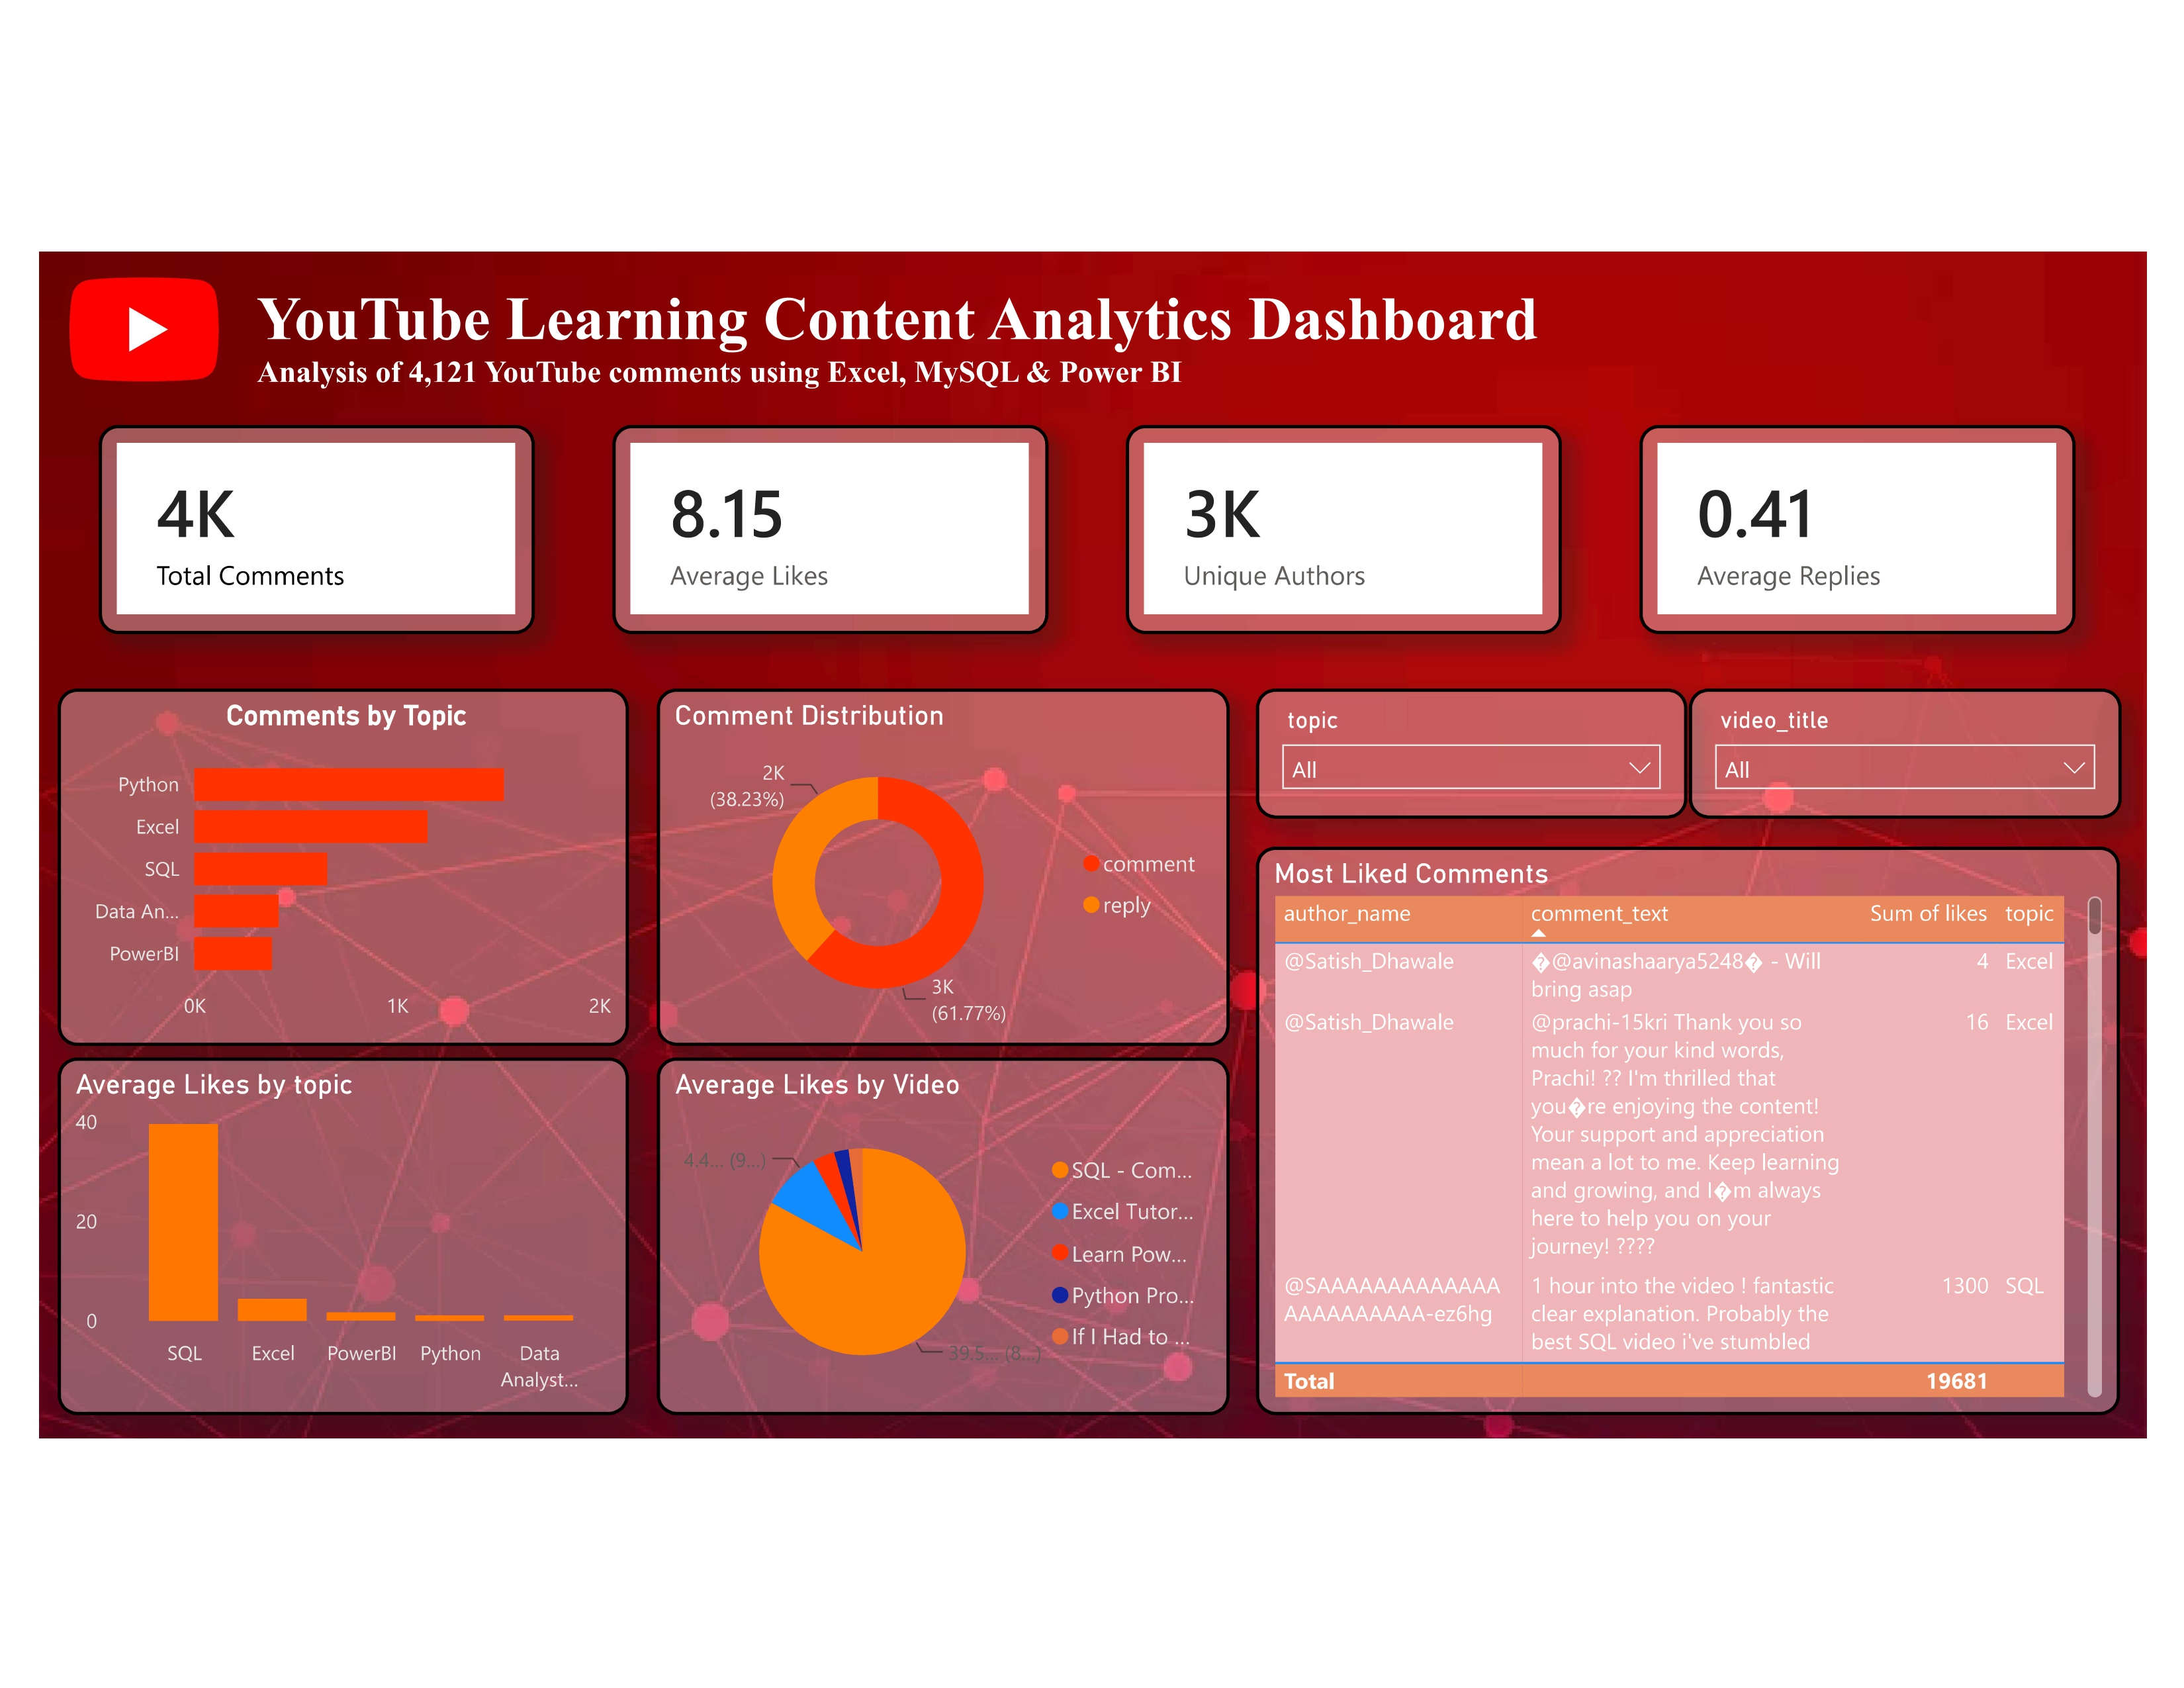

The page's visual inventory and layout, read from the dashboard file:
{"tool":"powerbi","page":{"name":"Page 1","canvas":[1280,720],"ordinal":0},"visuals":[{"type":"clusteredBarChart","title":"Comments by Topic","fields":{"Category":["YouTube_Comments.topic"],"Y":["YouTube_Comments.Total Comments"]},"box":[10.8,264.7,347.1,217.4],"z":4000},{"type":"clusteredColumnChart","fields":{"Category":["YouTube_Comments.topic"],"Y":["YouTube_Comments.Average Likes"]},"box":[10.8,488.9,347.1,217.4],"z":5000},{"type":"donutChart","title":"Comment Distribution","fields":{"Category":["YouTube_Comments.comment_type"],"Y":["YouTube_Comments.Total Comments"]},"box":[375.4,264.7,347.1,217.4],"z":6000},{"type":"pieChart","title":"Average Likes by Video","fields":{"Category":["YouTube_Comments.video_title"],"Y":["YouTube_Comments.Average Likes"]},"box":[375.4,488.9,347.1,217.4],"z":7000},{"type":"slicer","fields":{"Values":["YouTube_Comments.topic"]},"box":[738.7,264.7,262,79.7],"z":8000},{"type":"slicer","fields":{"Values":["YouTube_Comments.video_title"]},"box":[1002.1,264.7,263.3,79.7],"z":9000},{"type":"textbox","box":[126.9,13.5,815.7,91.8],"z":10000},{"type":"tableEx","title":"Most Liked Comments","fields":{"Values":["YouTube_Comments.author_name","YouTube_Comments.comment_text","Sum(YouTube_Comments.likes)","YouTube_Comments.topic"]},"box":[738.7,360.6,525.3,345.7],"z":11000},{"type":"image","box":[0,13.5,126.9,66.2],"z":12000},{"type":"cardVisual","fields":{"Data":["YouTube_Comments.Average Replies"]},"box":[972.4,105.3,264.7,126.9],"z":12003},{"type":"cardVisual","fields":{"Data":["YouTube_Comments.Unique Authors"]},"box":[660.4,105.3,264.7,126.9],"z":12004},{"type":"cardVisual","fields":{"Data":["YouTube_Comments.Average Likes"]},"box":[348.4,105.3,264.7,126.9],"z":12005},{"type":"cardVisual","fields":{"Data":["YouTube_Comments.Total Comments"]},"box":[36.5,105.3,264.7,126.9],"z":12006}]}

Visuals, with their boxes in screenshot pixels (x1, y1, x2, y2):
"Comments by Topic" clusteredBarChart: 35:690:619:1056
clusteredColumnChart - YouTube_Comments.topic x YouTube_Comments.Average Likes: 35:1068:619:1433
"Comment Distribution" donutChart: 649:690:1233:1056
"Average Likes by Video" pieChart: 649:1068:1233:1433
slicer - YouTube_Comments.topic: 1260:690:1701:824
slicer - YouTube_Comments.video_title: 1704:690:2146:824
textbox: 230:267:1603:422
"Most Liked Comments" tableEx: 1260:851:2144:1433
image: 17:267:230:379
cardVisual - YouTube_Comments.Average Replies: 1653:422:2099:635
cardVisual - YouTube_Comments.Unique Authors: 1128:422:1574:635
cardVisual - YouTube_Comments.Average Likes: 604:422:1049:635
cardVisual - YouTube_Comments.Total Comments: 79:422:524:635
